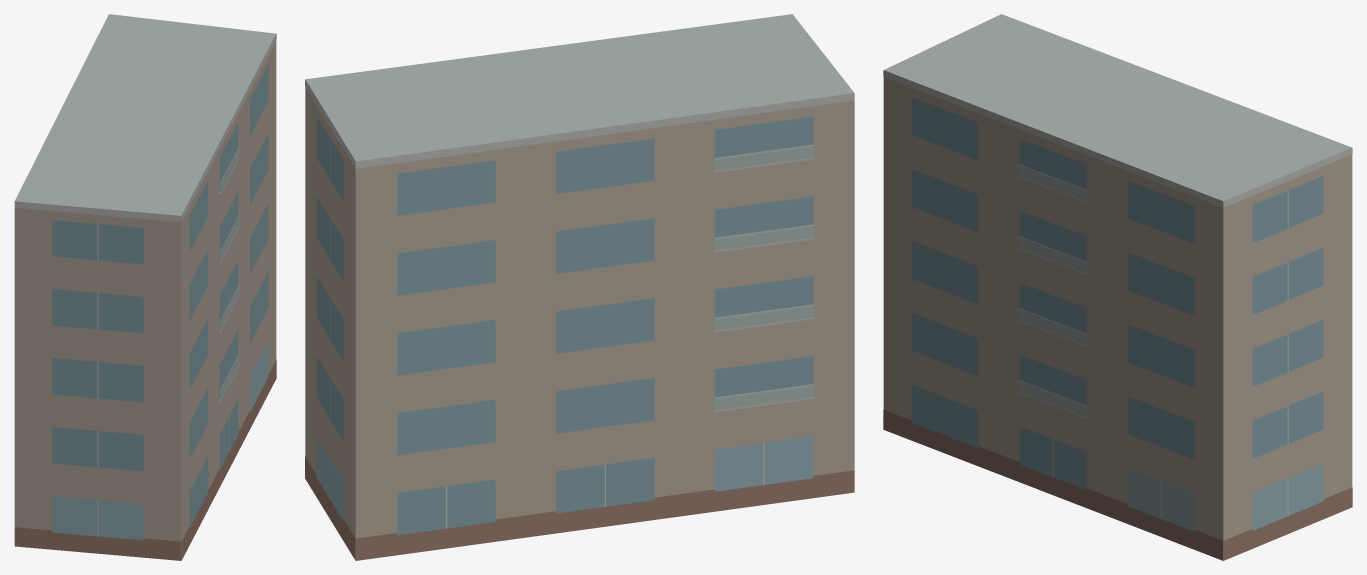
The model's file is survey-upis-32882903.glb.
3 renders of one model, left to right at view 1: azimuth 30°, elevation 25°; view 2: azimuth 150°, elevation 25°; view 3: azimuth 270°, elevation 25°, orthographic. The views are drawn at different scales.
Parts seen in each view (by area): view 1: survey-upis-32882903.tmp; view 2: survey-upis-32882903.tmp; view 3: survey-upis-32882903.tmp.
Boxes of the visible parts, x1,y1,x2,y2 form: survey-upis-32882903.tmp: (14, 14, 276, 560); survey-upis-32882903.tmp: (305, 14, 854, 560); survey-upis-32882903.tmp: (883, 14, 1352, 560).
Size of the model in its own units: 14.64 by 13.1 by 15.49.
